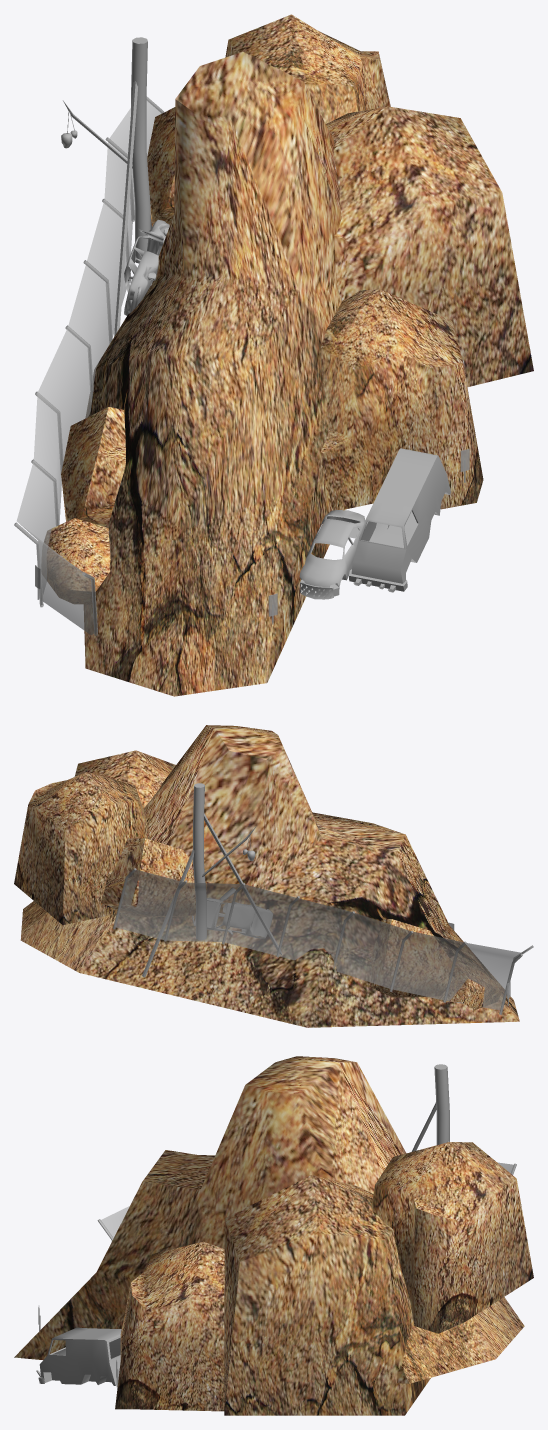
Rendered from Mountain_02.fbx.
The picture shows the model from 3 angles, top to bottom: view 1: azimuth 30°, elevation 25°; view 2: azimuth 150°, elevation 25°; view 3: azimuth 270°, elevation 25°; orthographic projection. The views are drawn at different scales.
Visible parts, largest first — view 1: polymsh80; view 2: polymsh80; view 3: polymsh80.
Boxes of the visible parts, <box> form: polymsh80: <box>14,14,533,696</box>; polymsh80: <box>14,725,533,1027</box>; polymsh80: <box>14,1056,533,1415</box>.
Size of the model in its own units: 23.6 by 18.25 by 23.07.
